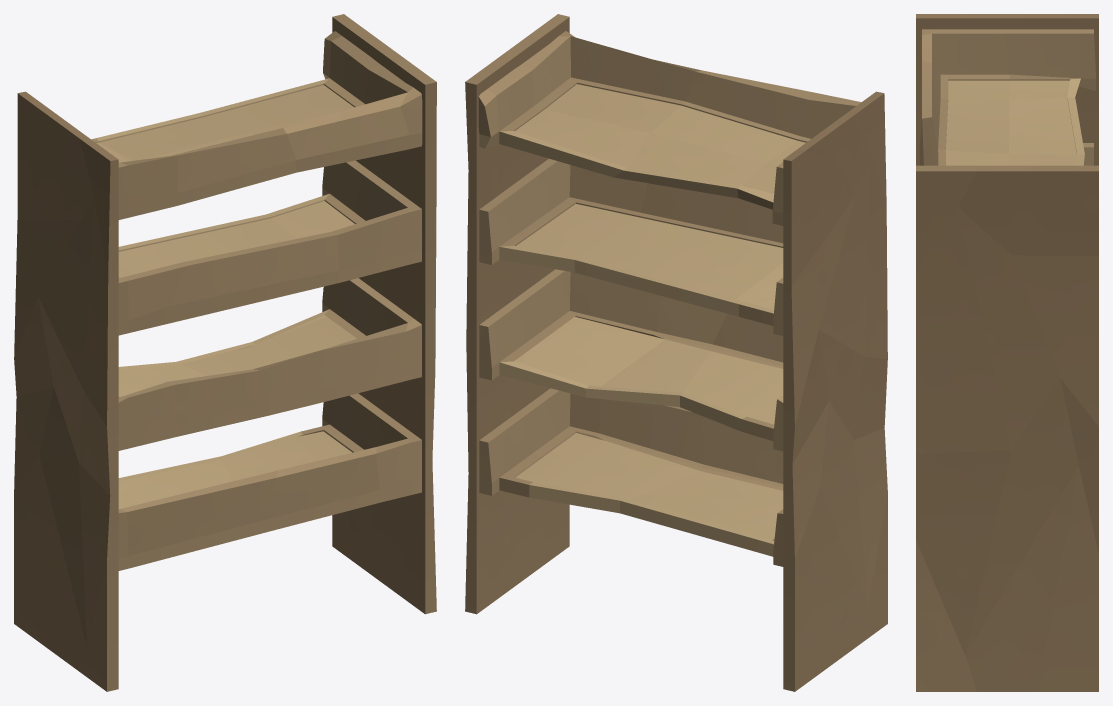
Rendered from shelf_2.glb.
3 views of the same model, side by side, from view 1: azimuth 30°, elevation 25°; view 2: azimuth 150°, elevation 25°; view 3: azimuth 270°, elevation 25° (orthographic).
Parts seen in each view (by area): view 1: shelf_2; view 2: shelf_2; view 3: shelf_2.
Part boxes in pixels (x1,y1,x2,y2): shelf_2: (14, 14, 436, 691); shelf_2: (465, 14, 887, 691); shelf_2: (916, 14, 1098, 691).
Size of the model in its own units: 1.2 by 1.84 by 0.5848.
1 material, 1 textured.
